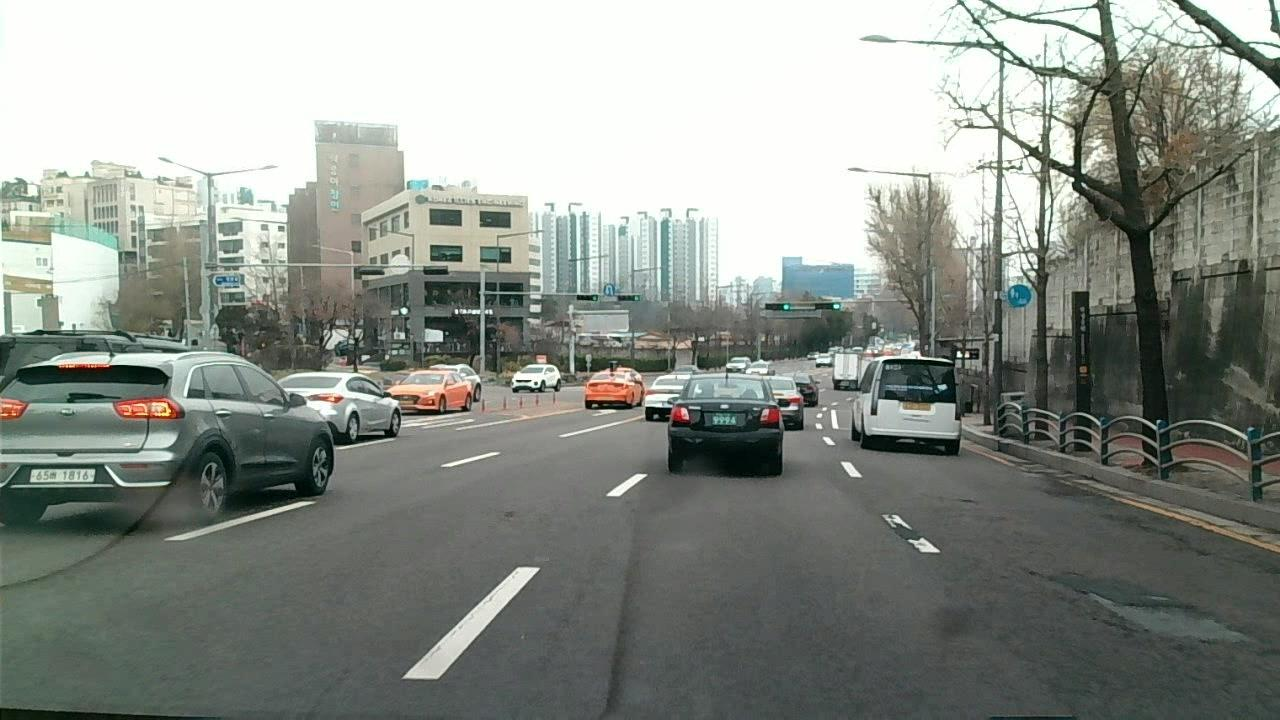pothole: (1038, 574, 1259, 652)
vcrack: (1116, 512, 1219, 556)
